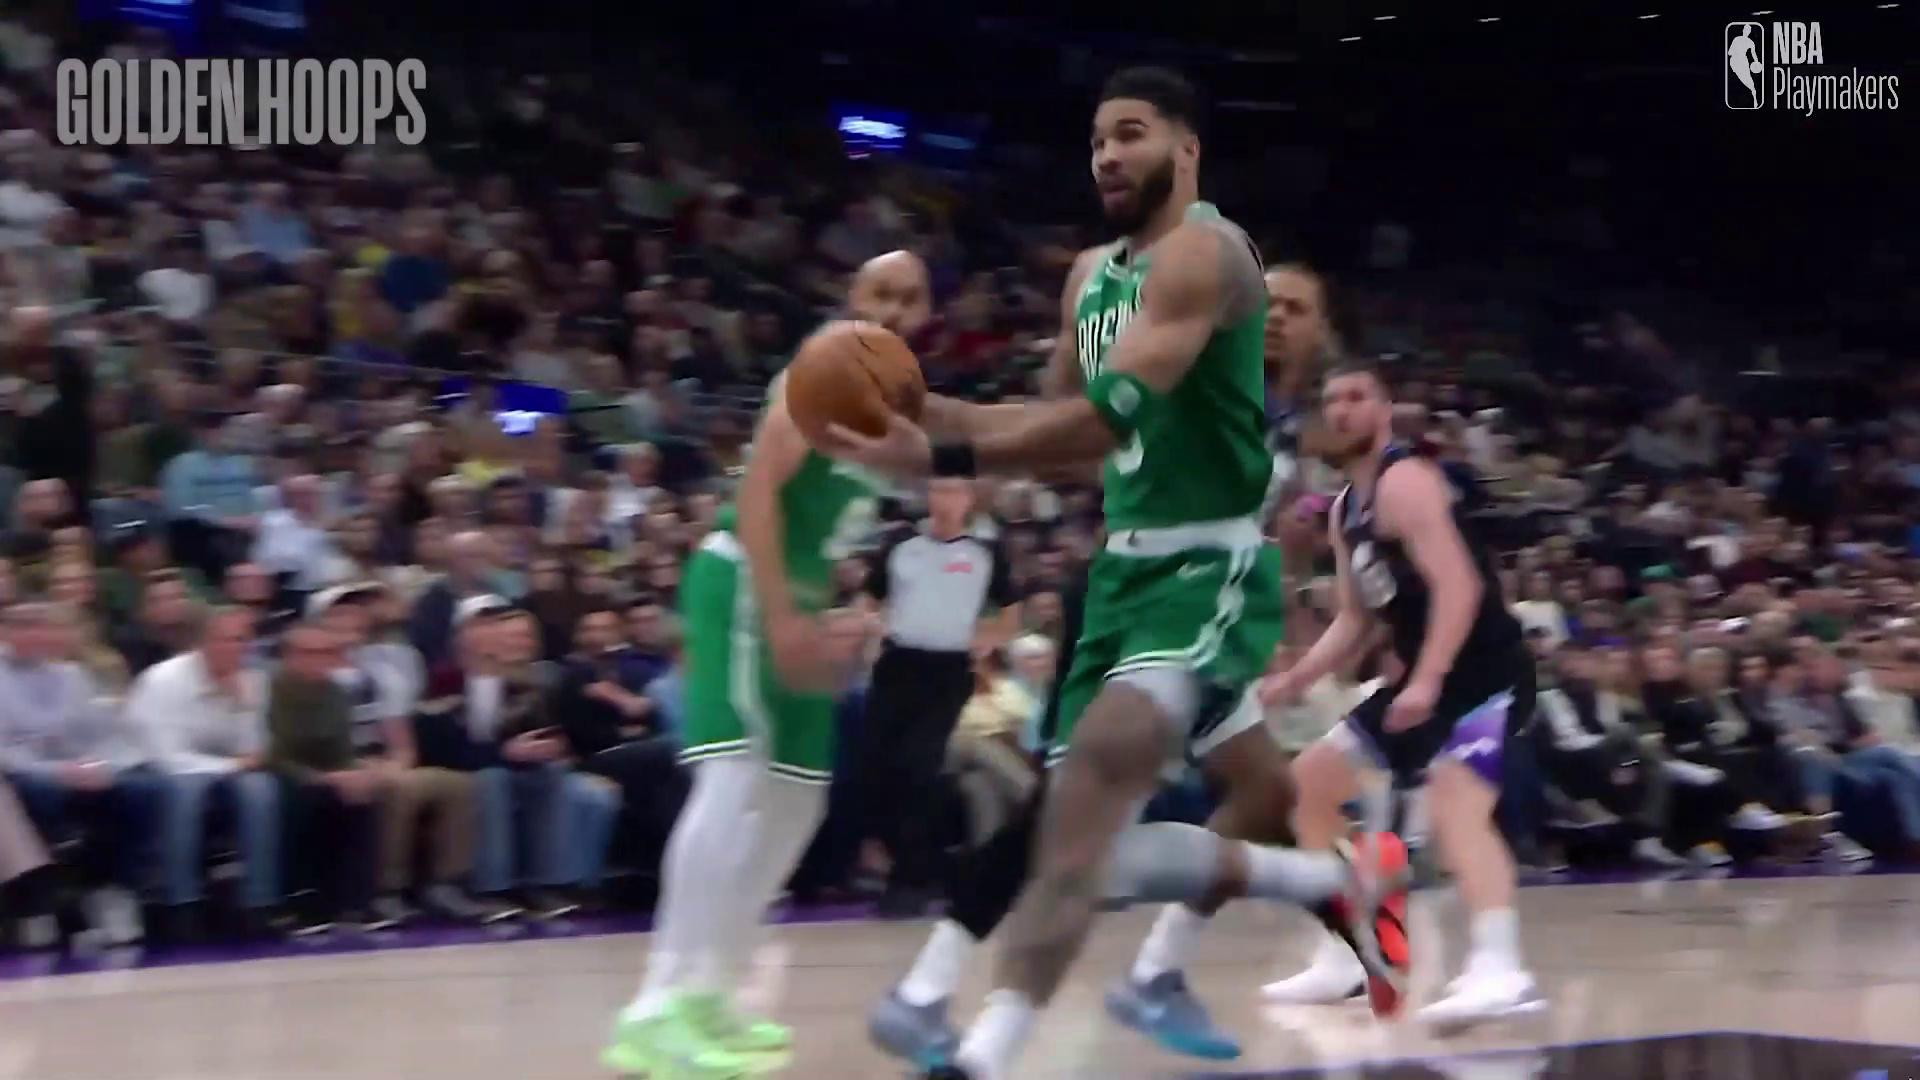ball: (785, 320, 922, 434)
